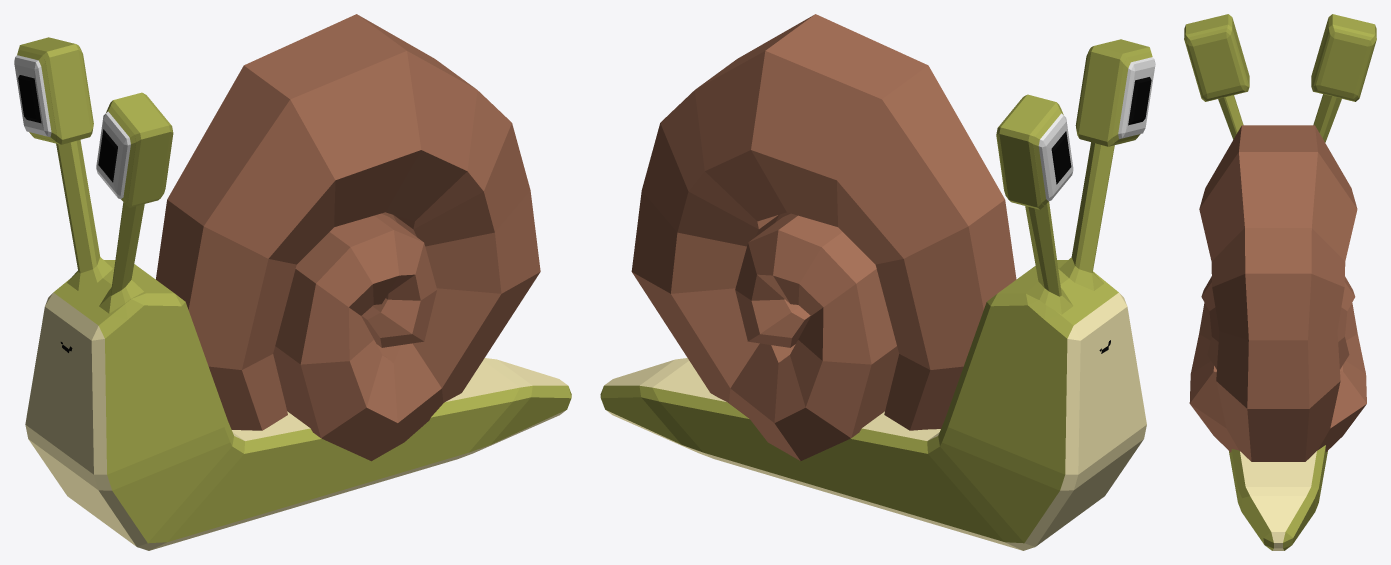
Rendered from snail.fbx.
3 views of the same model, side by side, from view 1: azimuth 30°, elevation 25°; view 2: azimuth 150°, elevation 25°; view 3: azimuth 270°, elevation 25° (orthographic). The views are drawn at different scales.
Visible parts, largest first — view 1: Shell, Cube.002; view 2: Shell, Cube.002; view 3: Shell, Cube.002.
Boxes of the visible parts, x1,y1,x2,y2 form: Shell: (156, 14, 540, 461); Cube.002: (14, 37, 571, 550); Shell: (631, 14, 1016, 460); Cube.002: (600, 39, 1155, 550); Shell: (1189, 125, 1366, 461); Cube.002: (1184, 14, 1376, 550).
Size of the model in its own units: 76.18 by 65.42 by 31.74.
